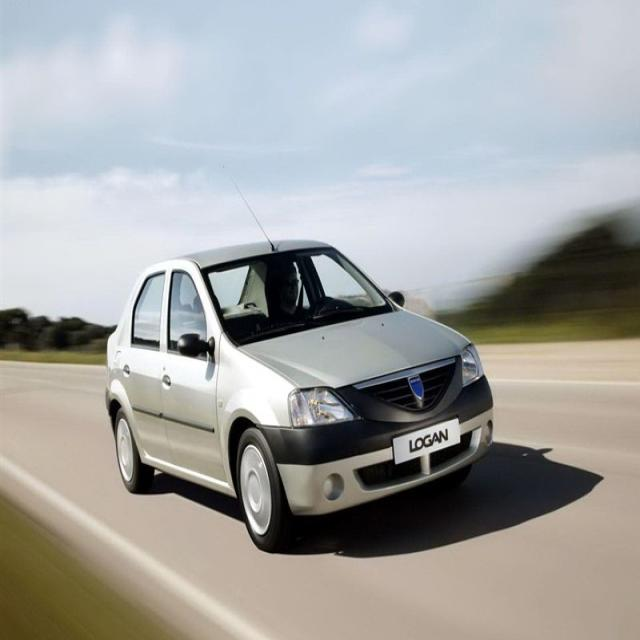front_bumper: (253, 403, 498, 518)
front_glass: (200, 240, 394, 350)
front_left_side_light: (459, 339, 486, 392)
front_left_side_mirror: (389, 288, 407, 309)
front_right_side_door: (162, 257, 230, 492)
front_right_side_light: (288, 385, 362, 431)
front_right_side_mirror: (176, 329, 216, 364)
wheel: (236, 424, 293, 552), (114, 400, 156, 492)
